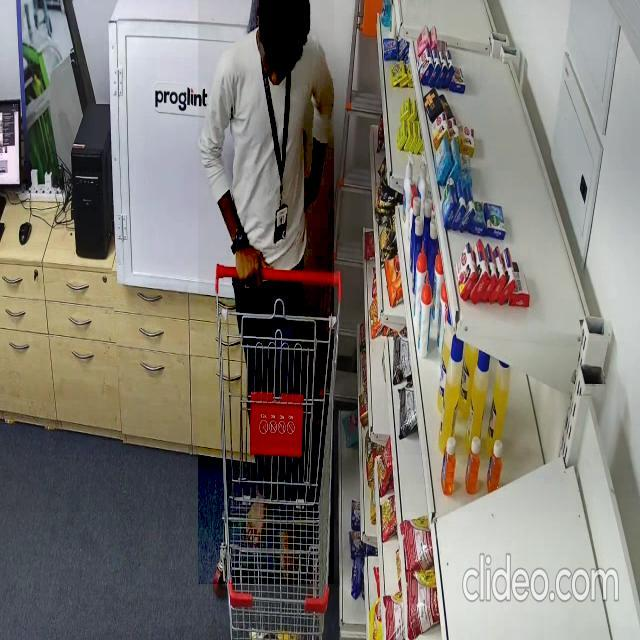Shoplifting: (198, 0, 334, 584)
